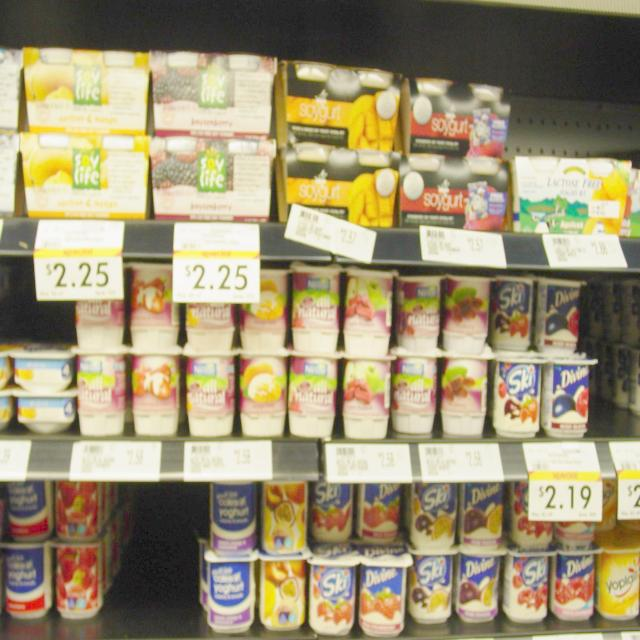empty_space: (118, 496, 194, 633), (520, 88, 640, 159), (599, 289, 633, 435), (12, 286, 68, 342)
